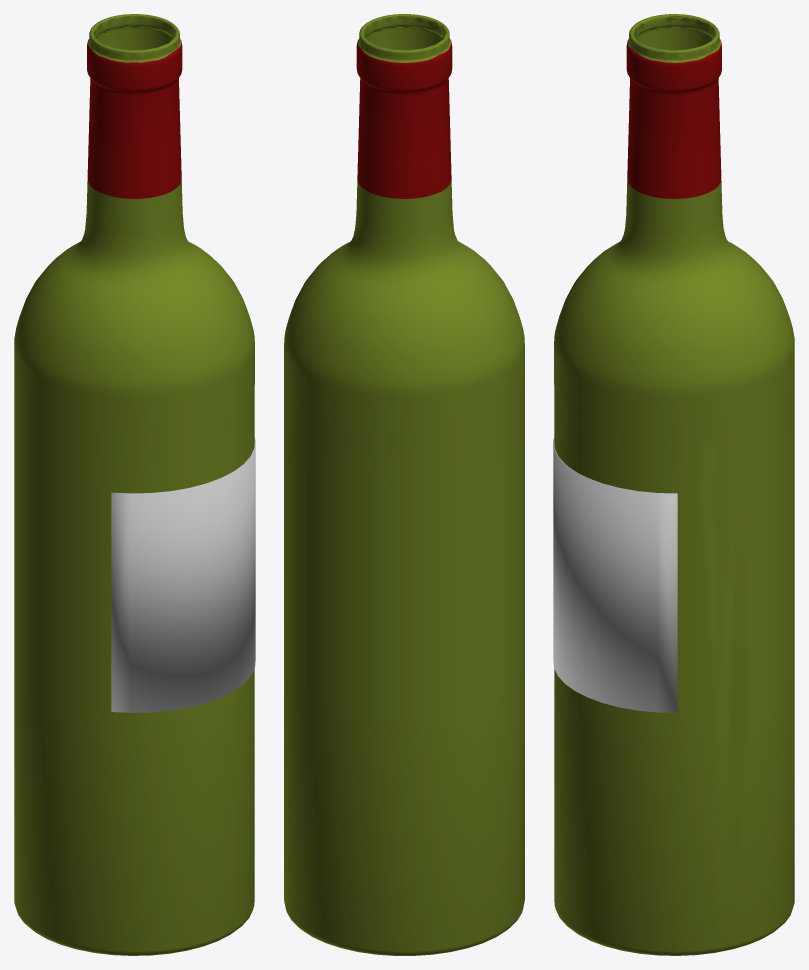
File: wineBouteille_centered.dae
3 views of the same model, side by side, from view 1: azimuth 30°, elevation 25°; view 2: azimuth 150°, elevation 25°; view 3: azimuth 270°, elevation 25° (orthographic).
Parts seen in each view (by area): view 1: Group1, Group2; view 2: Group1; view 3: Group1, Group2.
Part boxes in pixels (x1,y1,x2,y2): Group1: [14, 14, 254, 955]; Group2: [111, 437, 255, 712]; Group1: [284, 14, 524, 955]; Group1: [554, 14, 794, 955]; Group2: [553, 437, 677, 712].
Size of the model in its own units: 0.0745 by 0.0745 by 0.2982.
